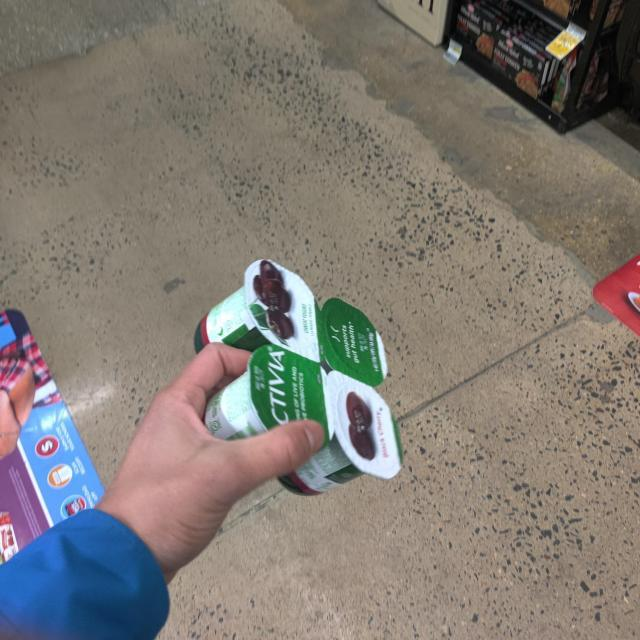Yogurt: (200, 265, 420, 495)
